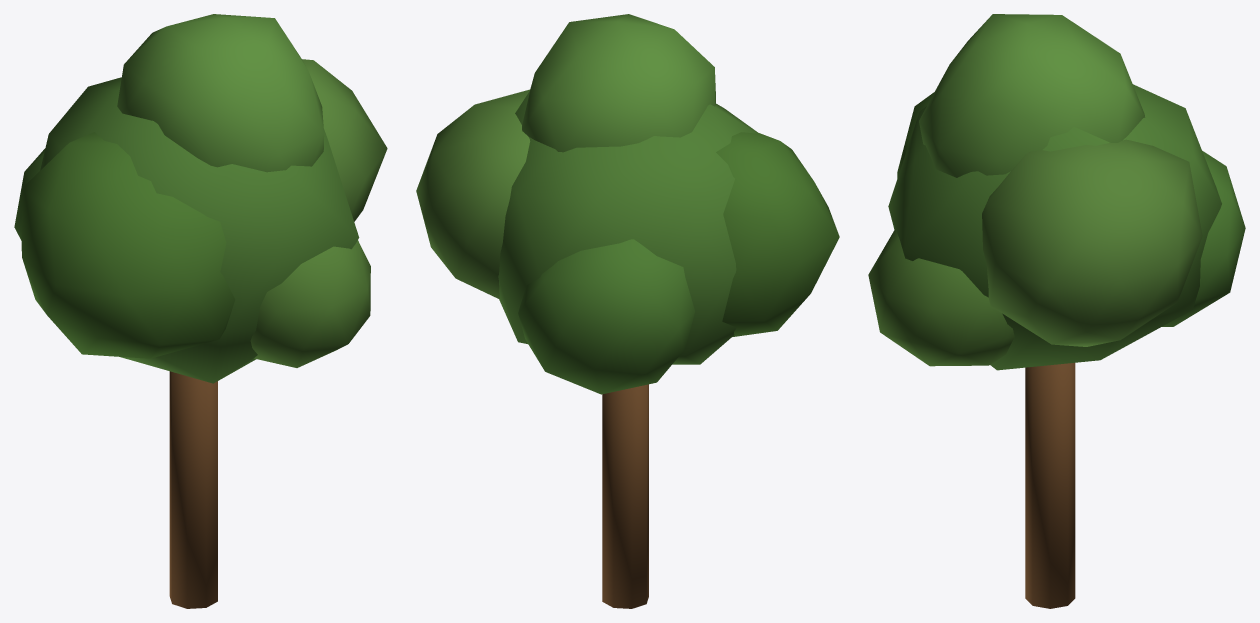
The model's file is mese.glb.
3 views of the same model, side by side, from view 1: azimuth 30°, elevation 25°; view 2: azimuth 150°, elevation 25°; view 3: azimuth 270°, elevation 25° (orthographic). The views are drawn at different scales.
Visible parts, largest first — view 1: mese; view 2: mese; view 3: mese.
Boxes of the visible parts, x1,y1,x2,y2 form: mese: (14, 14, 387, 608); mese: (416, 14, 839, 608); mese: (868, 14, 1245, 608).
Bounding box in the file's own units: 0.9434 × 1.42 × 0.8288.
